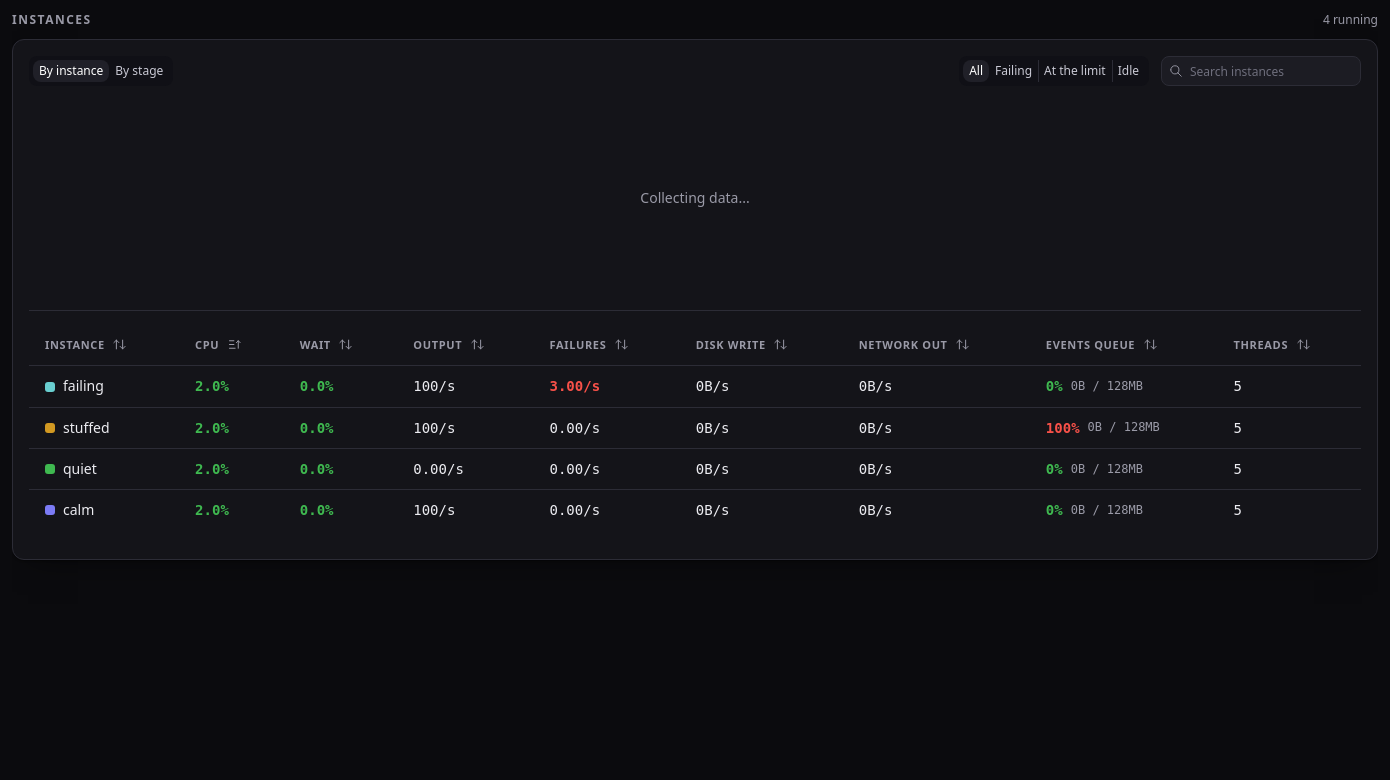
Test: InstancesSection › says so when the filter matches nothing
Type "nothing" into the field with placeholder "Search instances" at [1261, 71], box [1161,56,1361,86]
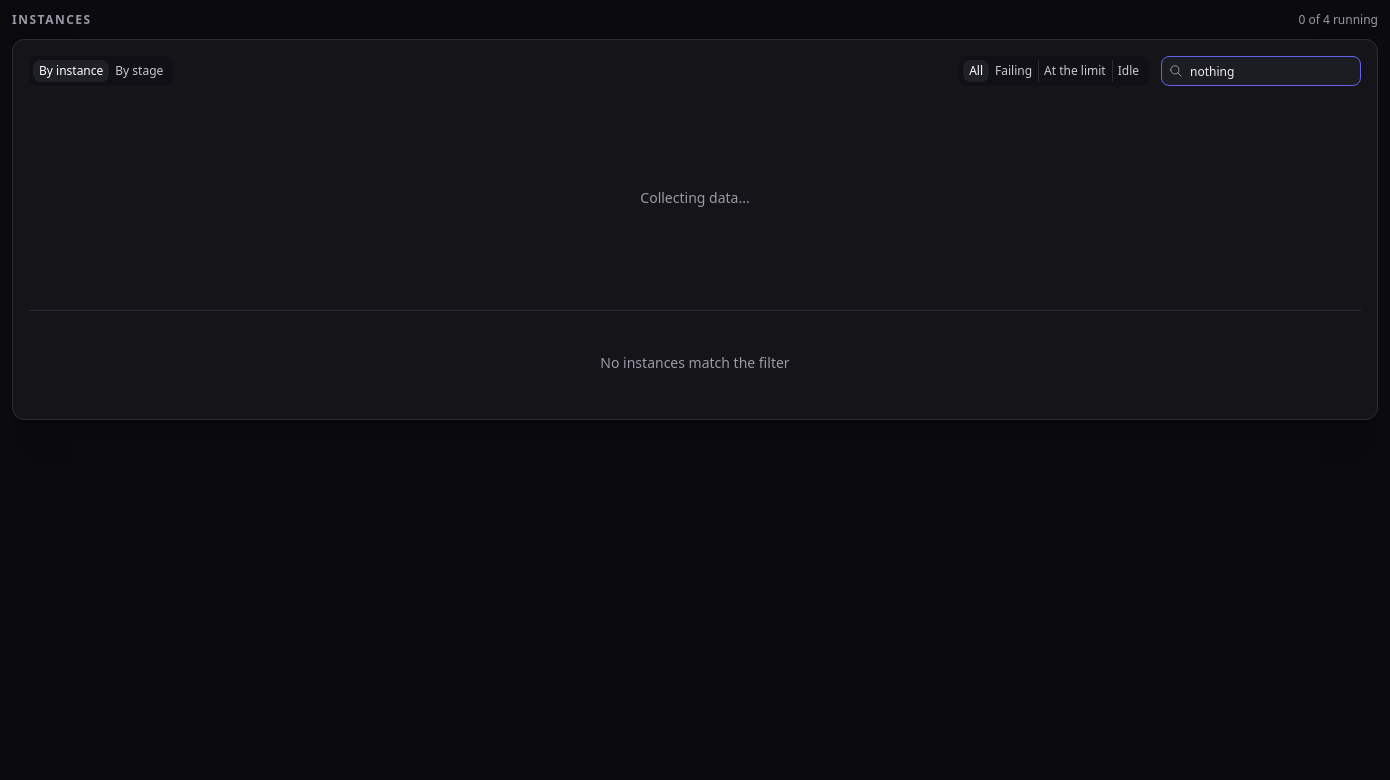
Result: the text "No instances match the filter" is shown at [600,353,790,374]
